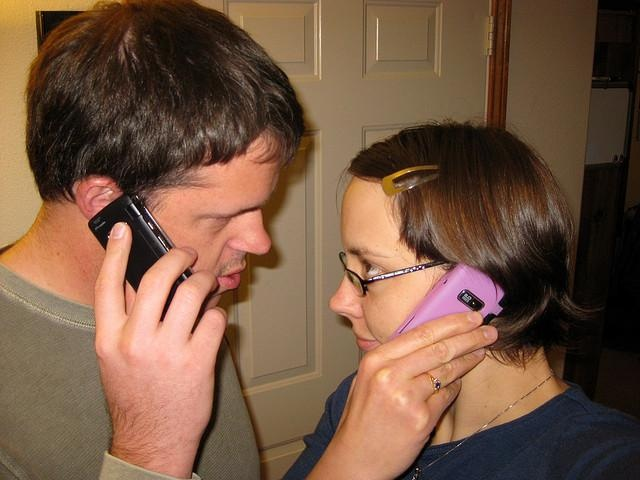person: (6, 3, 302, 480), (269, 120, 640, 480)
